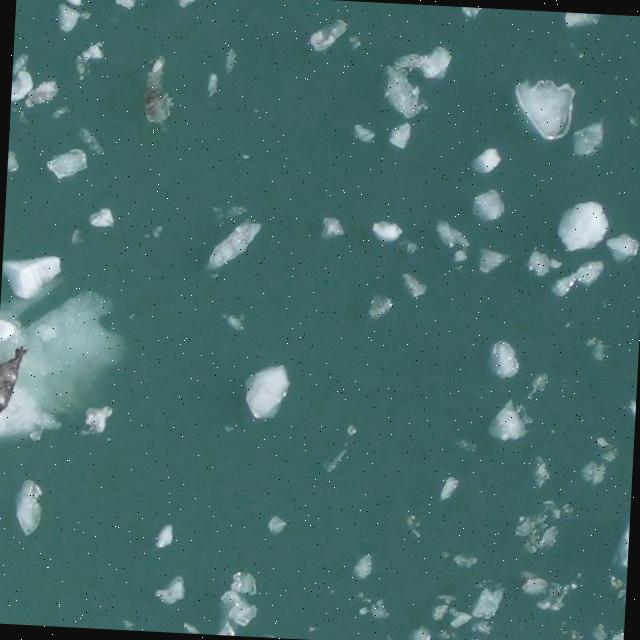seal: (0, 340, 31, 419)
